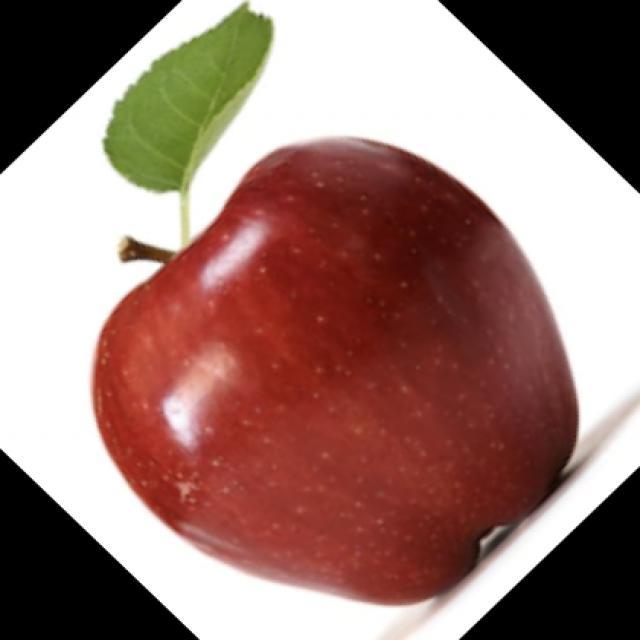Fresh Apple: (105, 137, 587, 590)
